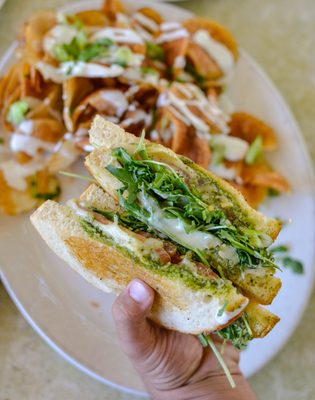soup: (32, 119, 287, 335)
